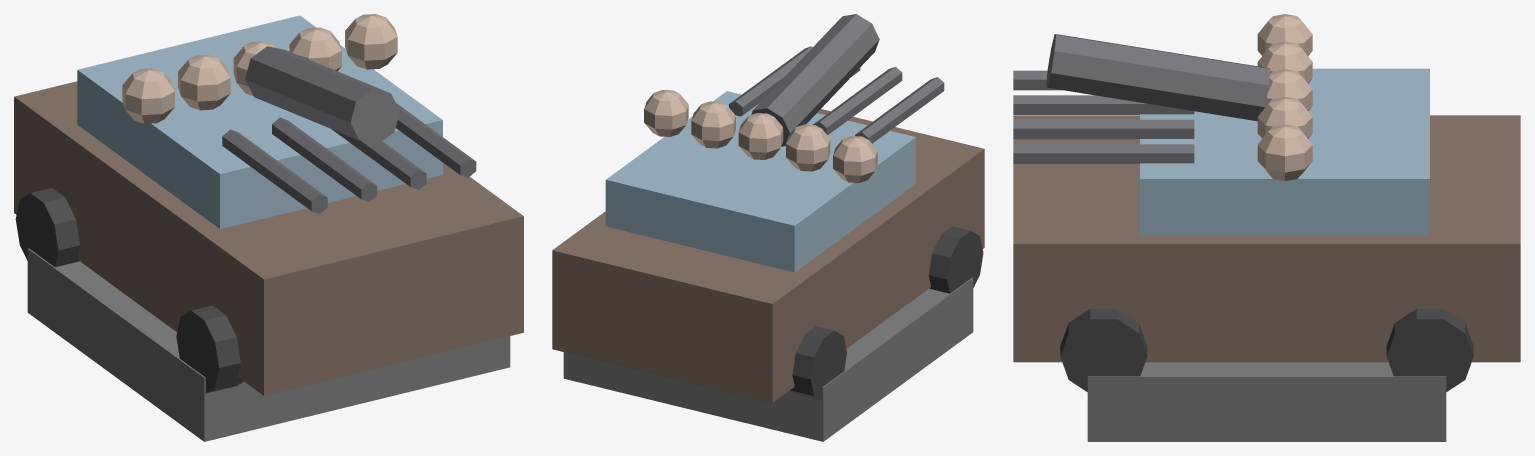
Rendered from orc_stompa.glb.
3 views of the same model, side by side, from view 1: azimuth 30°, elevation 25°; view 2: azimuth 150°, elevation 25°; view 3: azimuth 270°, elevation 25° (orthographic). The views are drawn at different scales.
Parts seen in each view (by area): view 1: TurretMesh, Base, GunsMesh; view 2: TurretMesh, Base, GunsMesh; view 3: TurretMesh, Base, GunsMesh.
Boxes of the visible parts, x1,y1,x2,y2 form: TurretMesh: (14, 14, 523, 395); Base: (27, 248, 510, 441); GunsMesh: (222, 46, 476, 213); TurretMesh: (552, 90, 984, 402); Base: (563, 277, 973, 441); GunsMesh: (729, 14, 944, 146); TurretMesh: (1013, 14, 1520, 391); Base: (1087, 362, 1446, 441); GunsMesh: (1013, 34, 1270, 163).
Size of the model in its own units: 1.8 by 1.84 by 2.55.
